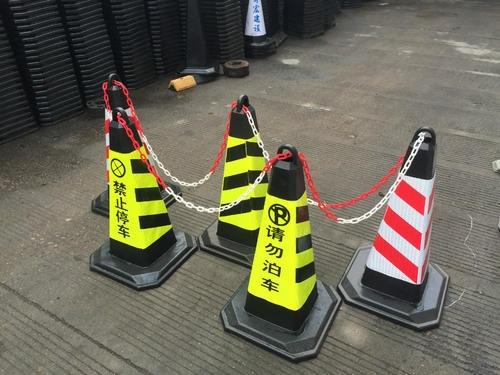cone_barrel: (353, 125, 450, 318), (233, 144, 329, 332), (103, 108, 184, 275), (206, 100, 274, 245), (241, 0, 275, 54)
